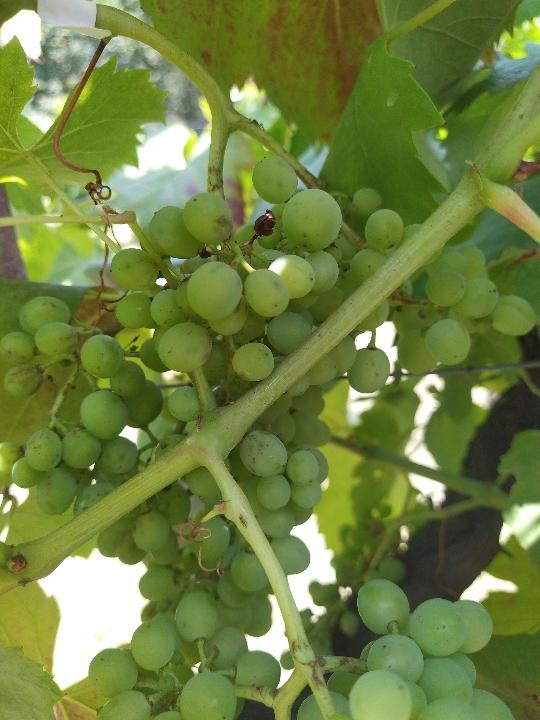grape: (4, 157, 536, 653)
